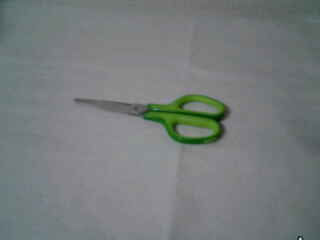003_classes: (62, 86, 241, 152)
